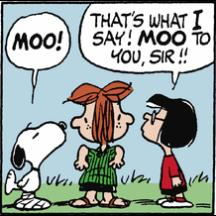snoopy: (3, 118, 68, 212)
